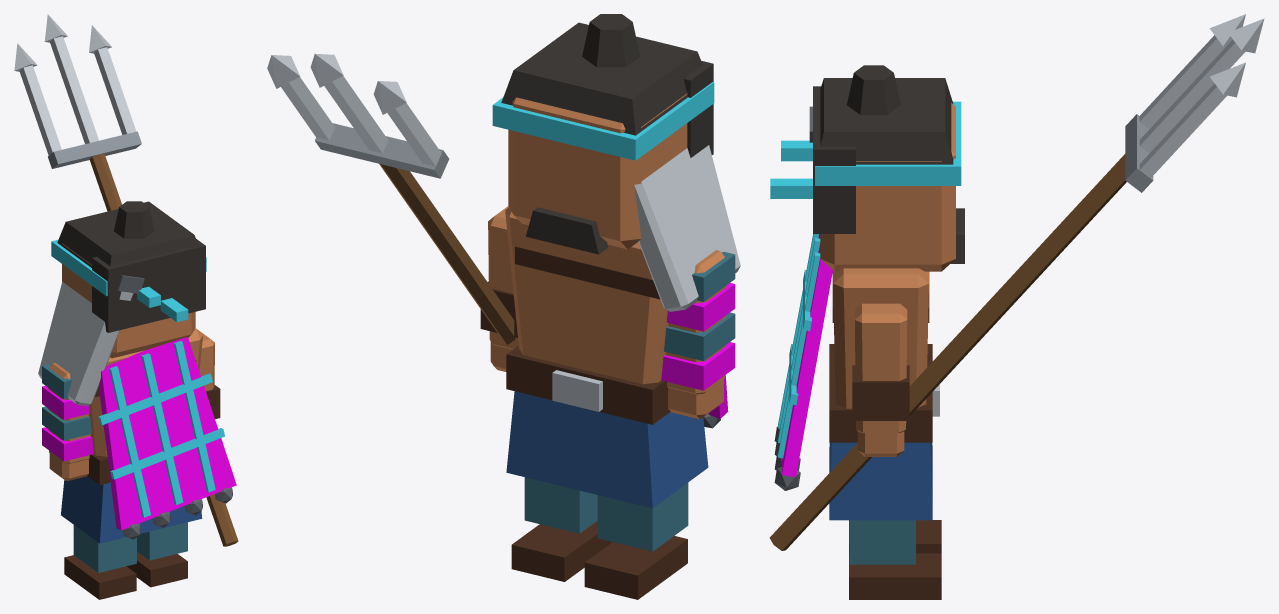
The model's file is CH_NetWeaver_DeepSea.fbx.
3 views of the same model, side by side, from view 1: azimuth 30°, elevation 25°; view 2: azimuth 150°, elevation 25°; view 3: azimuth 270°, elevation 25° (orthographic). The views are drawn at different scales.
Parts seen in each view (by area): view 1: Net, HairBack, Galerus, Hair, Skirt, Head, WrapL, SandalL, Shaft, Prong1, Bar, NetCordV1 (+26 smaller); view 2: Body, Skirt, Head, Hair, Galerus, Band, Belt, Shaft, SandalL, WrapL, SandalR, WrapR (+19 smaller); view 3: Head, Shaft, Hair, Body, Skirt, ArmR, SandalR, Band, HairBack, Net, WrapR, Belt (+14 smaller).
Part boxes in pixels (left/top/right/bottom): Net: left=98, top=337, right=236, bottom=530; HairBack: left=92, top=239, right=205, bottom=332; Galerus: left=38, top=282, right=133, bottom=405; Hair: left=57, top=201, right=198, bottom=267; Skirt: left=61, top=476, right=202, bottom=543; Head: left=62, top=243, right=195, bottom=358; WrapL: left=73, top=525, right=136, bottom=572; SandalL: left=64, top=555, right=136, bottom=599; Shaft: left=89, top=153, right=238, bottom=546; Prong1: left=50, top=36, right=98, bottom=143; Bar: left=48, top=131, right=141, bottom=168; NetCordV1: left=141, top=353, right=183, bottom=504; Body: left=505, top=207, right=668, bottom=384; Skirt: left=506, top=391, right=708, bottom=508; Head: left=508, top=93, right=687, bottom=249; Hair: left=501, top=22, right=702, bottom=135; Galerus: left=634, top=145, right=740, bottom=311; Band: left=492, top=82, right=714, bottom=160; Belt: left=506, top=345, right=670, bottom=424; Shaft: left=379, top=164, right=515, bottom=344; SandalL: left=584, top=536, right=687, bottom=599; WrapL: left=597, top=482, right=688, bottom=551; SandalR: left=511, top=521, right=612, bottom=581; WrapR: left=524, top=477, right=597, bottom=533; Head: left=820, top=103, right=955, bottom=271; Shaft: left=769, top=154, right=1126, bottom=550; Hair: left=820, top=78, right=953, bottom=164; Body: left=833, top=268, right=928, bottom=408; Skirt: left=829, top=442, right=932, bottom=520; ArmR: left=855, top=303, right=907, bottom=433; SandalR: left=849, top=553, right=941, bottom=599; Band: left=815, top=101, right=961, bottom=185; HairBack: left=813, top=86, right=855, bottom=233; Net: left=782, top=234, right=832, bottom=477; WrapR: left=849, top=520, right=915, bottom=564; Belt: left=829, top=344, right=932, bottom=442.
Bounding box in the file's own units: 0.8075 × 1.39 × 1.83.
